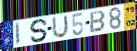5: (71, 12, 84, 36)
8: (109, 6, 122, 31)
B: (89, 9, 107, 33)
I: (14, 21, 20, 46)
S: (29, 18, 50, 43)
U: (52, 14, 70, 40)
